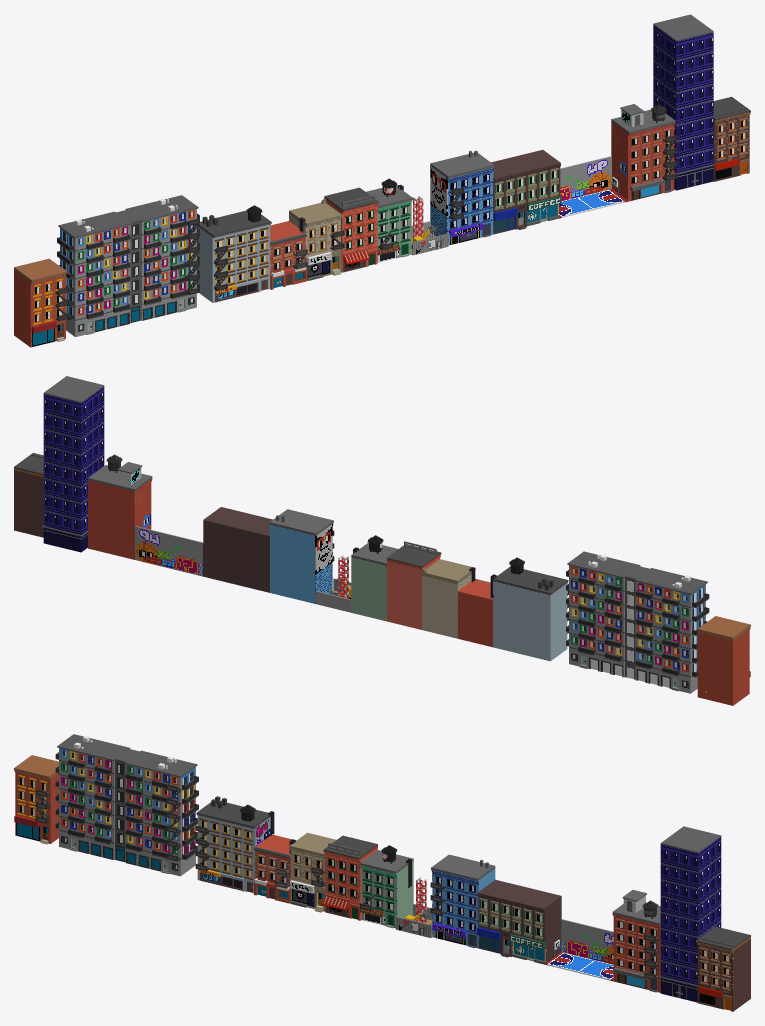
The model's file is buildings.glb.
3 renders of one model, top to bottom at view 1: azimuth 30°, elevation 25°; view 2: azimuth 150°, elevation 25°; view 3: azimuth 330°, elevation 25°, orthographic.
Visible parts, largest first — view 1: Union; view 2: Union; view 3: Union.
Boxes of the visible parts, x1=… form: Union: x1=14, y1=14, x2=750, y2=347; Union: x1=14, y1=376, x2=750, y2=705; Union: x1=14, y1=734, x2=750, y2=1011.
Bounding box in the file's own units: 6.5 × 1.3 × 0.44.
Materials: 1 (1 with a texture image).
